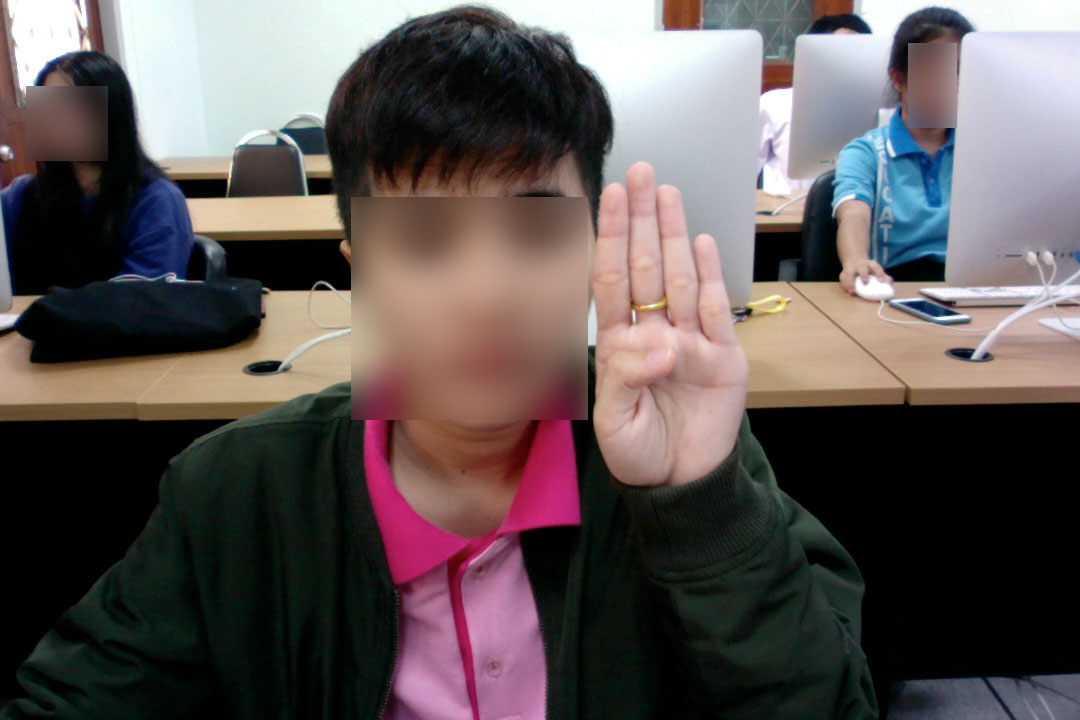bor: (581, 153, 753, 502)
